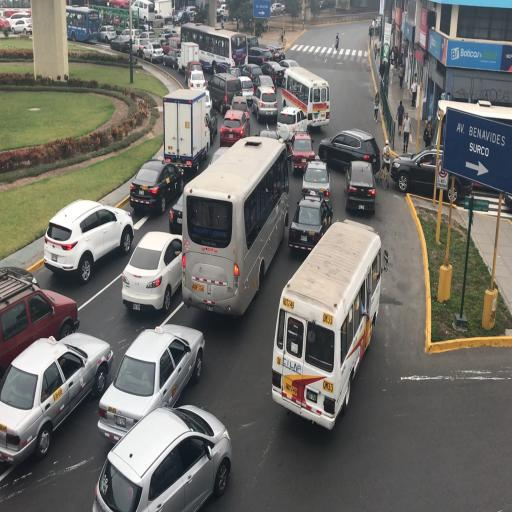auto: (0, 332, 113, 470), (92, 402, 232, 510), (98, 323, 204, 439), (1, 270, 78, 390), (44, 195, 133, 279), (120, 229, 186, 312), (390, 144, 474, 204), (129, 158, 184, 214), (321, 127, 376, 177), (288, 193, 332, 250), (42, 218, 80, 274), (344, 159, 374, 217), (301, 156, 329, 202), (219, 108, 250, 147), (289, 131, 316, 175), (252, 84, 278, 124), (276, 104, 302, 144), (233, 73, 255, 108), (240, 62, 265, 90), (261, 60, 286, 88), (228, 95, 250, 126), (256, 127, 281, 152), (246, 46, 273, 66), (141, 41, 164, 63), (162, 46, 183, 70), (125, 33, 146, 56), (263, 43, 286, 64), (173, 6, 195, 26), (255, 73, 275, 95), (8, 16, 32, 34), (97, 24, 117, 43), (137, 30, 158, 48), (156, 28, 174, 44), (202, 88, 212, 114), (270, 2, 283, 16)
bus: (433, 98, 512, 218), (161, 85, 210, 174), (179, 41, 200, 79), (154, 0, 174, 26)
camion: (335, 36, 339, 50)
moto: (270, 225, 372, 426), (180, 136, 285, 312), (282, 65, 328, 130), (181, 22, 234, 76), (64, 5, 98, 43), (131, 0, 156, 23)
